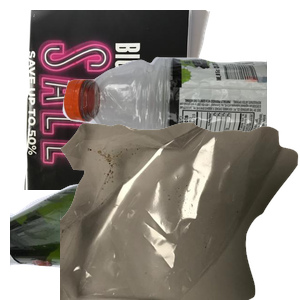glass: (10, 154, 246, 300)
paper: (22, 10, 225, 190)
plastic: (60, 53, 300, 201)
trash: (60, 120, 300, 300)
